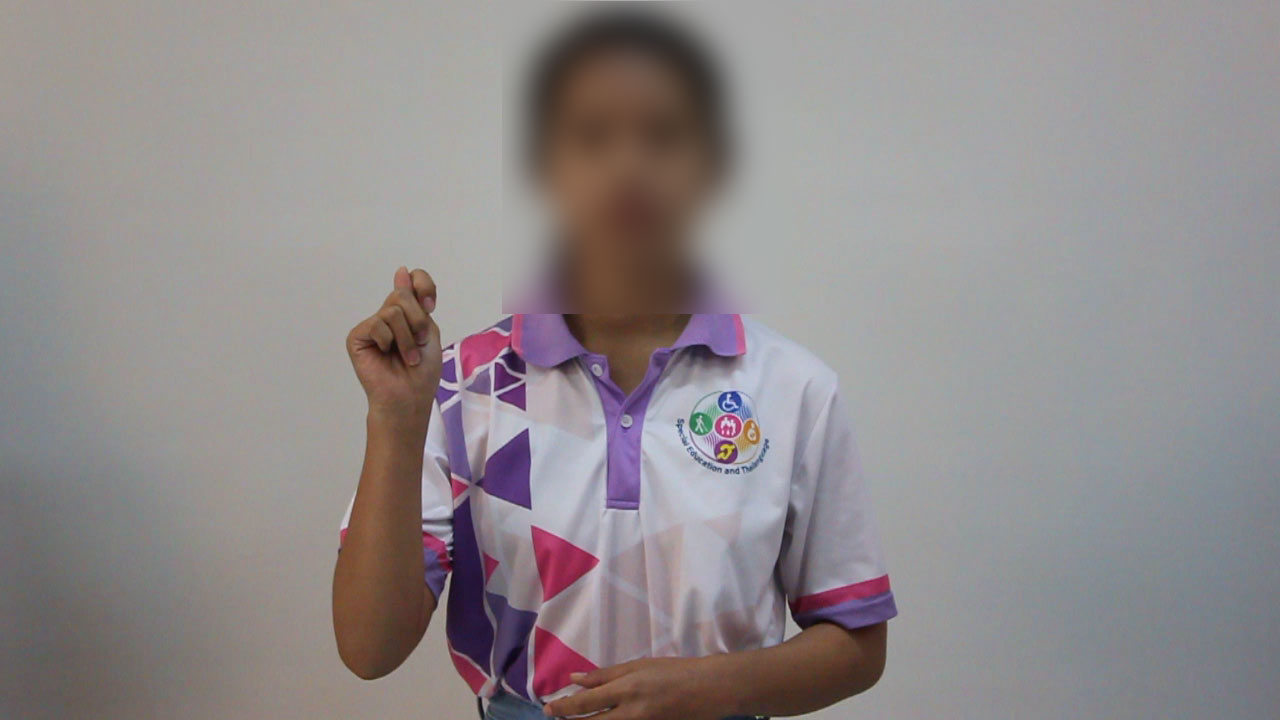tor: (322, 251, 473, 434)
